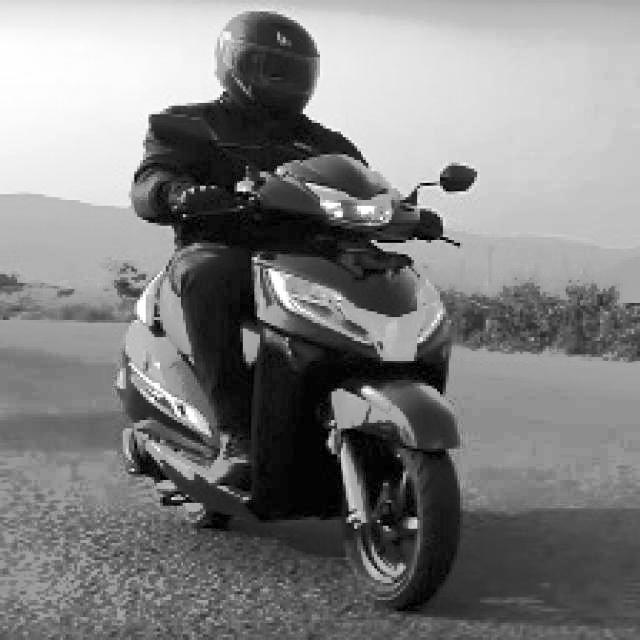Bike: (96, 166, 489, 605)
